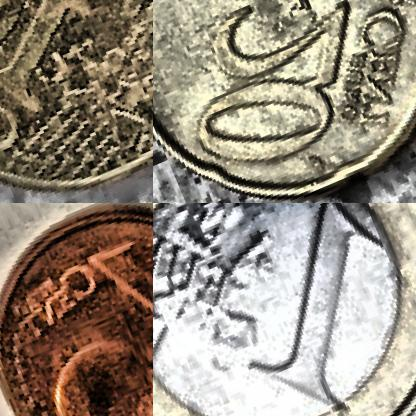coin: (153, 203, 415, 415), (153, 0, 415, 202), (0, 203, 152, 415), (0, 0, 152, 202)
